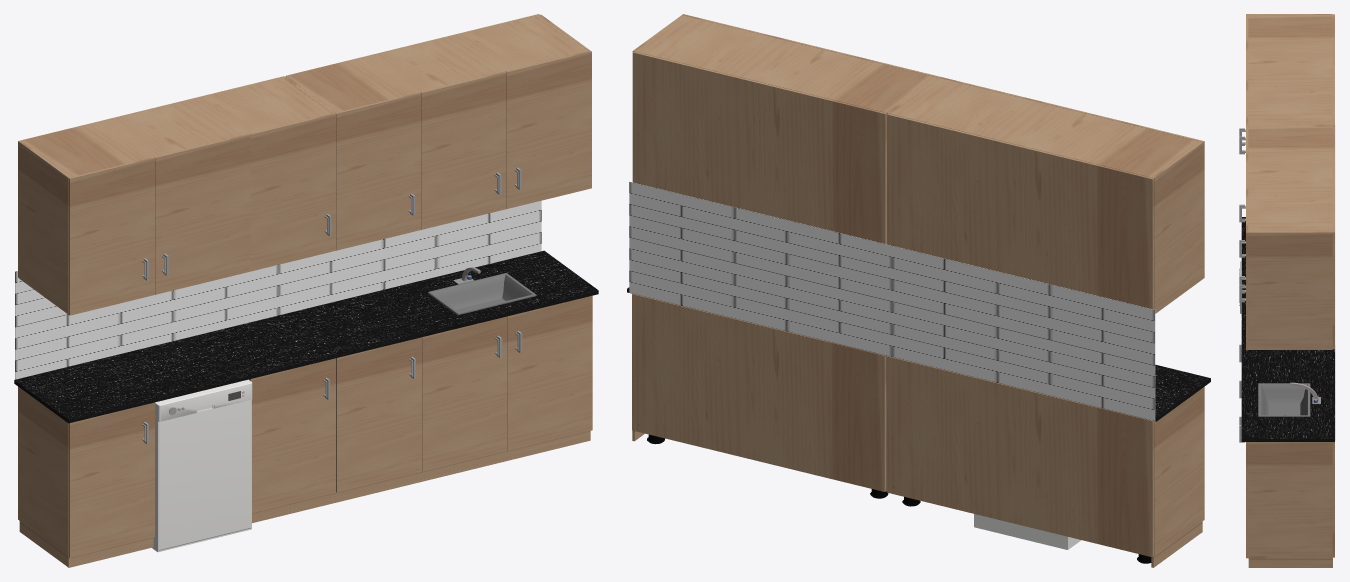
Rendered from kitchen_counter_cabinets_dishwasher_and_sink.glb.
The picture shows the model from 3 angles, left to right: view 1: azimuth 30°, elevation 25°; view 2: azimuth 150°, elevation 25°; view 3: azimuth 270°, elevation 25°; orthographic projection. The views are drawn at different scales.
Visible parts, largest first — view 1: Cube_3, counter, Boole_2, Cube_4, Cube_6_8, Cube_4_3, Cube_6_7, Cube_6_2, Cube_6_3, Cube_5, Cube_5_5, Cube_6_6 (+11 smaller); view 2: Cube_3, Cube_1_4, Cube_1_5, Cube_1_3, Cube_1_2, Cube_6_8, Cube_4_3, Cube_4_6, Cube_4_5, counter, Boole_1; view 3: Cube_3_3, Cube_3_4, Cube_6_8, Cube_4_3, counter, sink, Cube_2, Cube_1_2, Cube_5, Cube_5_2, Cube_1_3, Cube_1_5 (+4 smaller).
Part boxes in pixels (box(x1,y1,x2,y2)): Cube_3: box(15, 200, 541, 379); counter: box(14, 250, 598, 423); Boole_2: box(154, 380, 252, 551); Cube_4: box(154, 134, 250, 294); Cube_6_8: box(22, 77, 331, 177); Cube_4_3: box(288, 15, 587, 112); Cube_6_7: box(68, 157, 154, 315); Cube_6_2: box(420, 71, 506, 229); Cube_6_3: box(335, 92, 421, 250); Cube_5: box(505, 50, 591, 208); Cube_5_5: box(250, 113, 335, 271); Cube_6_6: box(68, 402, 154, 557); Cube_3: box(629, 181, 1155, 420); Cube_1_4: box(887, 356, 1153, 557); Cube_1_5: box(887, 113, 1153, 309); Cube_1_3: box(632, 294, 886, 491); Cube_1_2: box(632, 51, 886, 244); Cube_6_8: box(891, 78, 1200, 177); Cube_4_3: box(635, 15, 934, 112); Cube_4_6: box(1152, 142, 1203, 313); Cube_4_5: box(1154, 388, 1203, 556); counter: box(627, 287, 1210, 421); Boole_1: box(974, 514, 1081, 549); Cube_3_3: box(1248, 231, 1332, 349); Cube_3_4: box(1248, 442, 1332, 556); Cube_6_8: box(1248, 15, 1332, 124); Cube_4_3: box(1248, 126, 1332, 231); counter: box(1241, 217, 1334, 441); sink: box(1258, 383, 1310, 416); Cube_2: box(1251, 558, 1332, 567); Cube_1_2: box(1332, 126, 1334, 349); Cube_5: box(1246, 197, 1248, 350); Cube_5_2: box(1246, 442, 1248, 558); Cube_1_3: box(1332, 442, 1334, 557); Cube_1_5: box(1332, 14, 1334, 126).
Bounding box in the file's own units: 4.06 × 2.87 × 0.7427.
17 materials, 3 textured.
